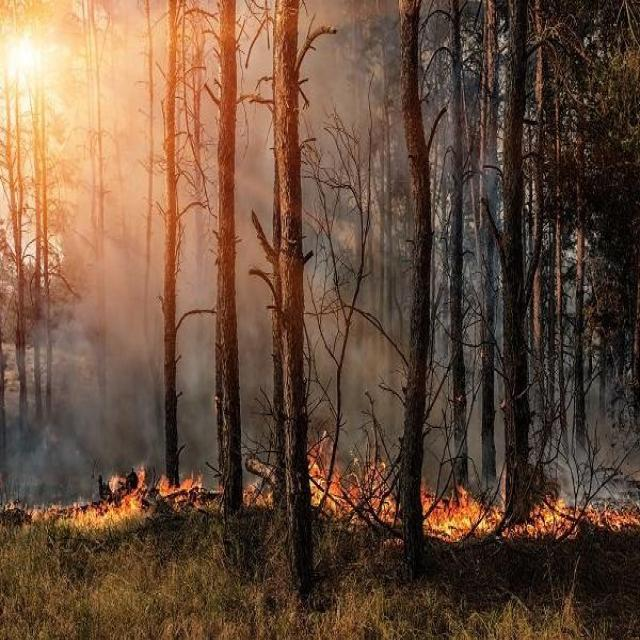Fire: (11, 446, 640, 544)
Smoke: (84, 22, 394, 453)
